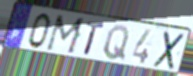0: (27, 12, 52, 49)
4: (131, 28, 153, 67)
M: (43, 14, 87, 57)
Q: (101, 24, 130, 63)
T: (83, 21, 106, 57)
X: (151, 30, 186, 72)
